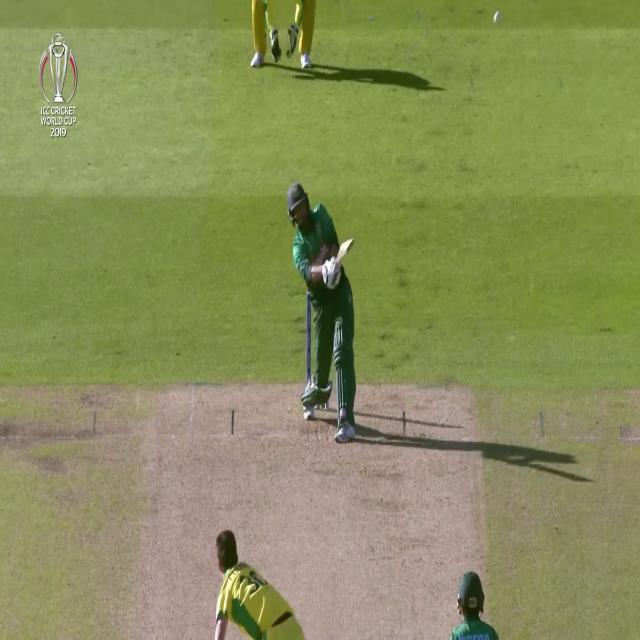ball: (492, 7, 504, 29)
